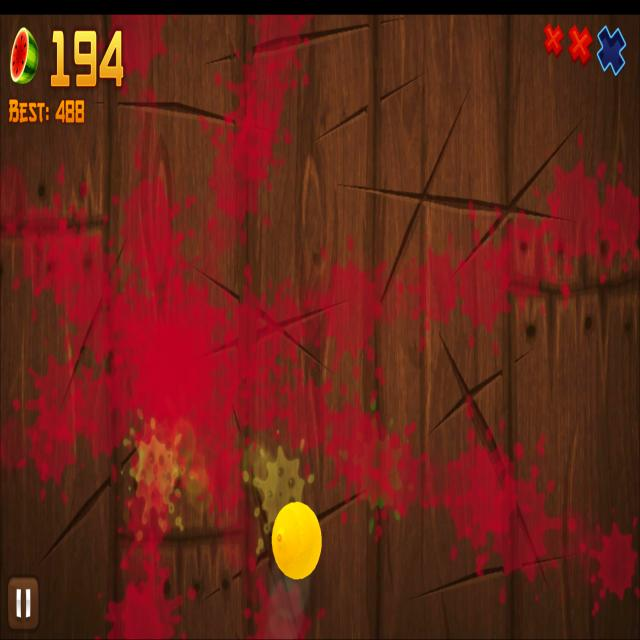fruit: (272, 502, 322, 580)
